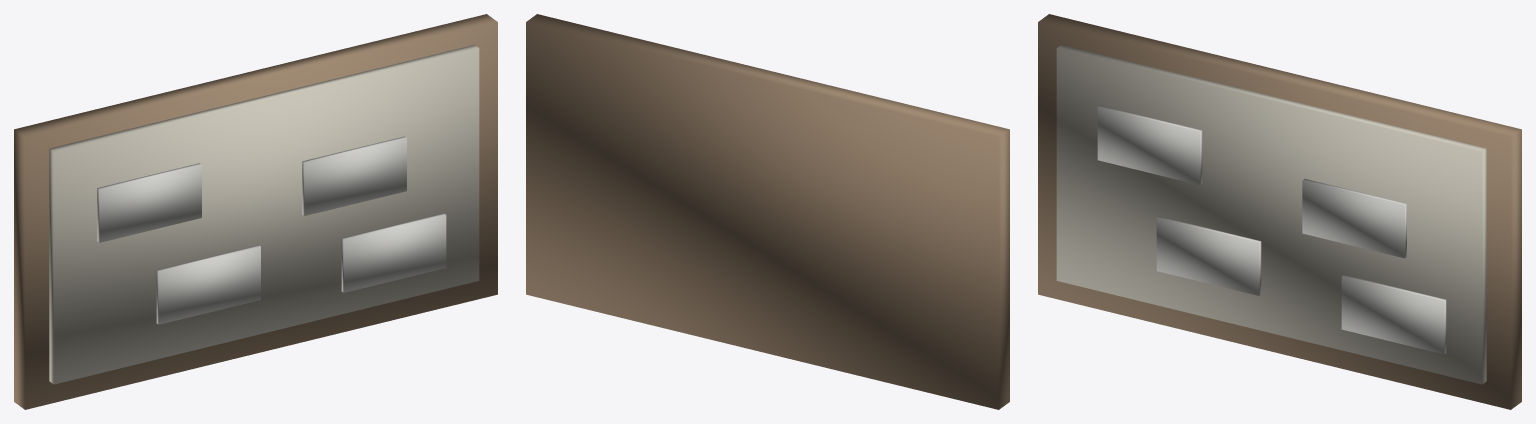
The model's file is newsroom_assignment_board__wide.glb.
3 views of the same model, side by side, from view 1: azimuth 30°, elevation 25°; view 2: azimuth 150°, elevation 25°; view 3: azimuth 330°, elevation 25° (orthographic).
Visible parts, largest first — view 1: world; view 2: world; view 3: world.
Boxes of the visible parts, x1,y1,x2,y2 form: world: (14,14,497,409); world: (526,14,1009,409); world: (1038,14,1521,409).
Bounding box in the file's own units: 1.49 × 0.82 × 0.101.
